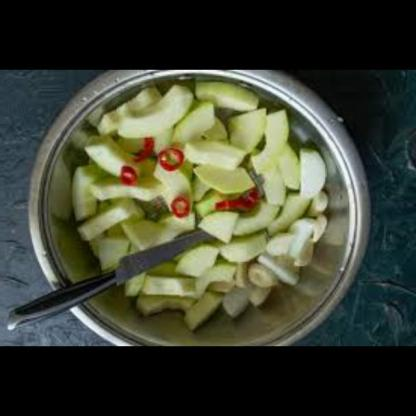hot pepper: (212, 184, 264, 219), (155, 147, 186, 175), (167, 194, 193, 223), (114, 164, 142, 190), (133, 137, 156, 167)
vegetable marrow: (90, 102, 320, 321)
